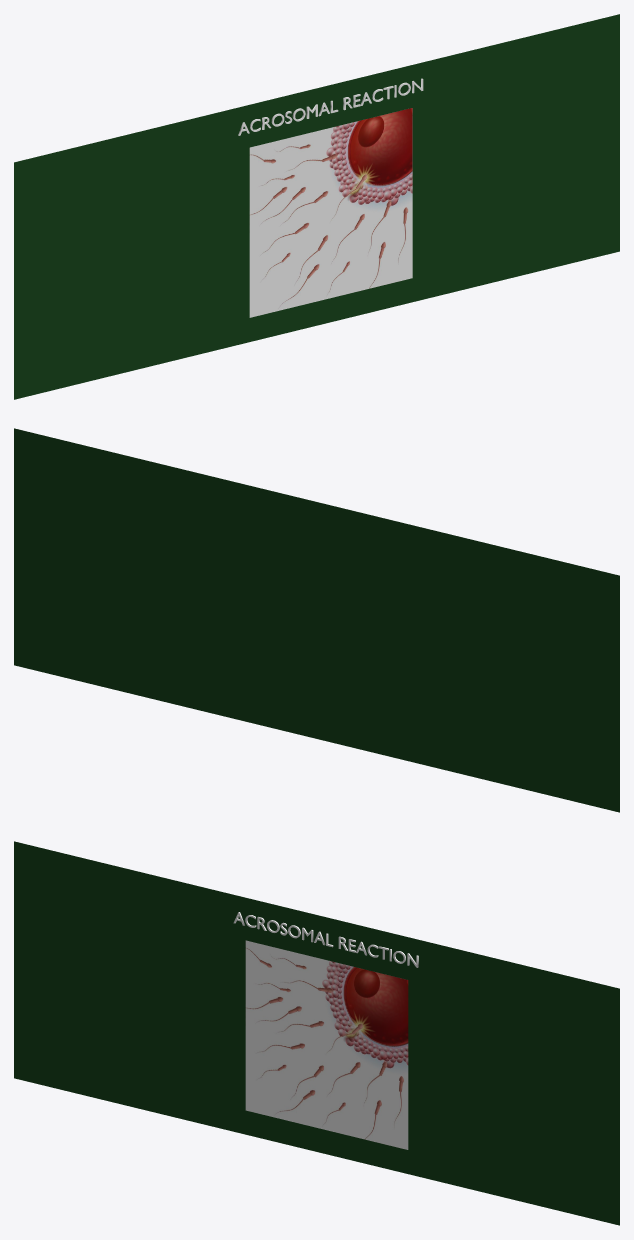
The model's file is acrosomal.gltf.
3 views of the same model, one above another, from view 1: azimuth 30°, elevation 25°; view 2: azimuth 150°, elevation 25°; view 3: azimuth 330°, elevation 25° (orthographic).
Visible parts, largest first — view 1: Plane.013, Plane, Text.008; view 2: Plane.013; view 3: Plane.013, Plane, Text.008.
Boxes of the visible parts, <box> form: Plane.013: <box>14,14,619,399</box>; Plane: <box>249,108,412,317</box>; Text.008: <box>238,78,423,135</box>; Plane.013: <box>14,428,619,812</box>; Plane.013: <box>14,841,619,1225</box>; Plane: <box>245,940,408,1149</box>; Text.008: <box>233,912,418,967</box>.
Bounding box in the file's own units: 15.94 × 5.96 × 0.1404.
Materials: 3 (1 with a texture image).
